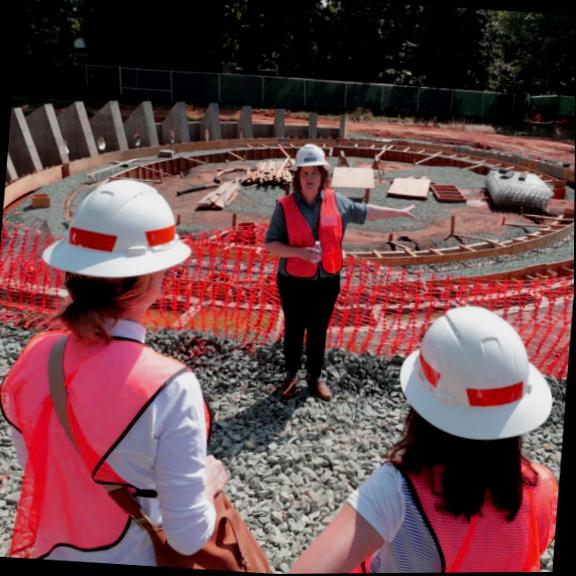safety_vest: (0, 328, 201, 548), (367, 439, 562, 573), (260, 189, 352, 294)
